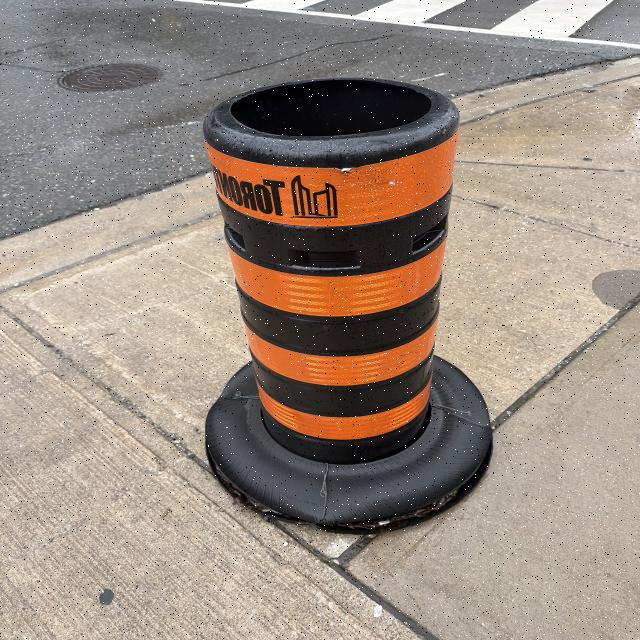Teraffic Barrel: (204, 79, 491, 532)
